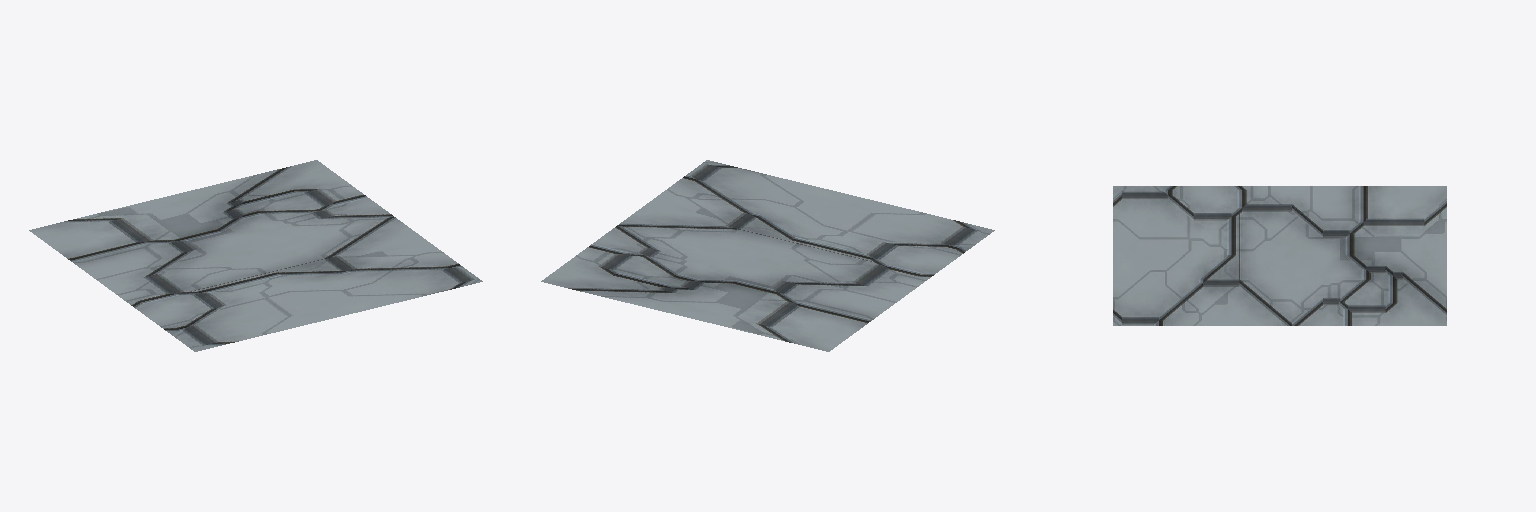
The picture shows the model from 3 angles: view 1: azimuth 30°, elevation 25°; view 2: azimuth 150°, elevation 25°; view 3: azimuth 270°, elevation 25°; orthographic projection.
Parts seen in each view (by area): view 1: Plane; view 2: Plane; view 3: Plane.
Part boxes in pixels (bbox=[...]): Plane: bbox=[29, 160, 482, 351]; Plane: bbox=[541, 160, 994, 351]; Plane: bbox=[1113, 186, 1446, 325].
Bounding box in the file's own units: 8 × 0 × 8.
1 materials, 1 textured.